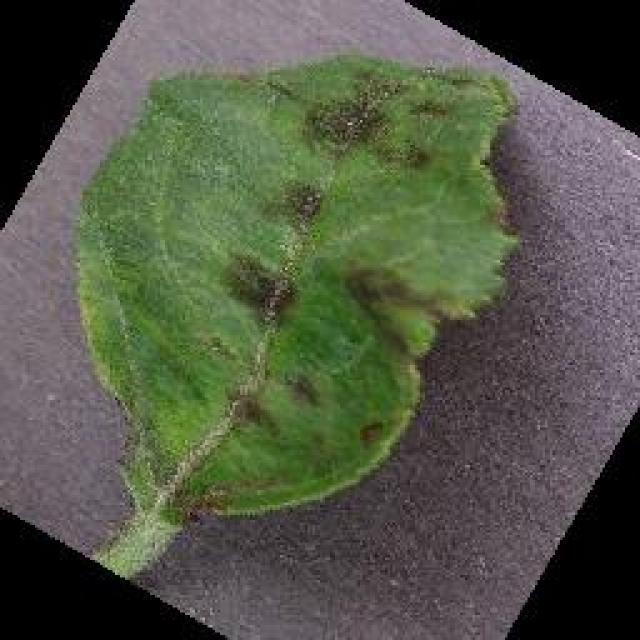apple scab disease: (70, 50, 522, 575)
